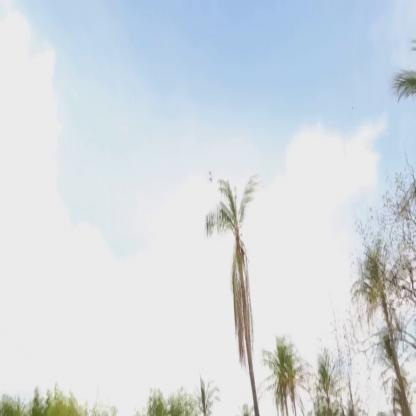drone: (207, 171, 215, 185)
